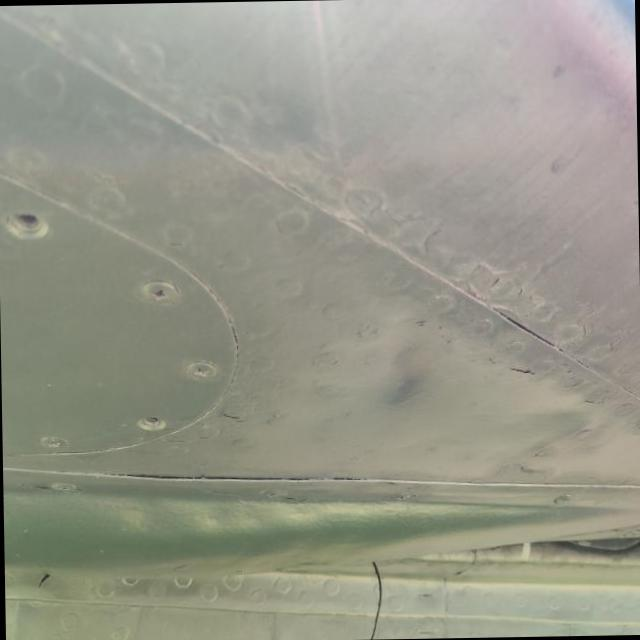Dent: (346, 309, 460, 422)
Fastener Damage: (0, 192, 68, 260), (120, 390, 185, 459)
